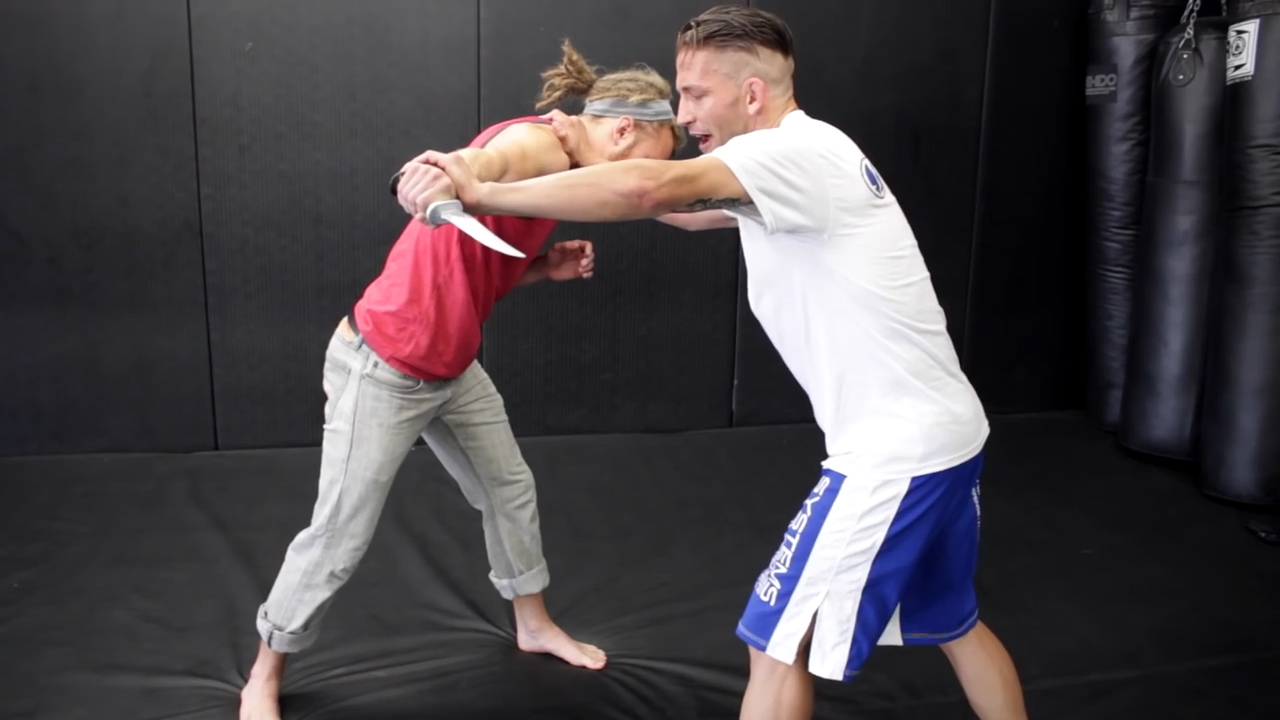knife: (378, 166, 538, 268)
